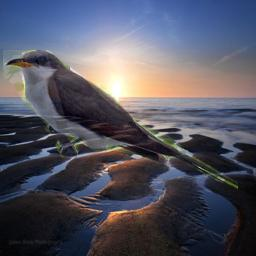Cuckoo: (3, 50, 238, 191)
